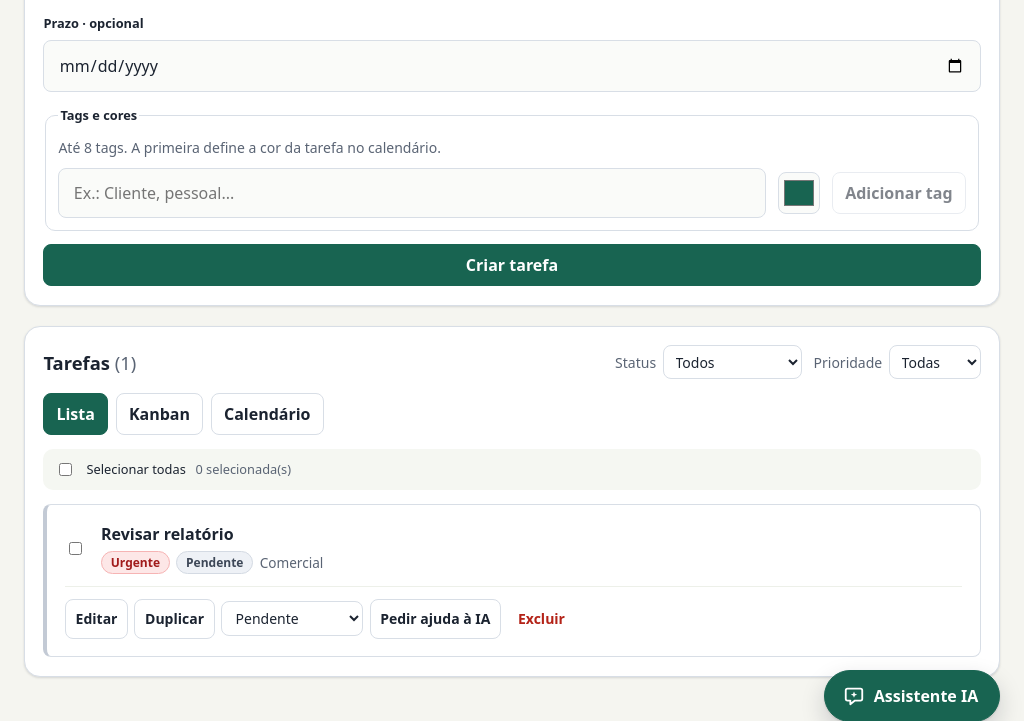
Test case: TasksPage list › notes when the API sent its maximum of 100 tasks
The width and height of the screenshot is (1024, 721).
(page scrolled)
Expected: the text "Revisar relatório" is shown, [101,523,234,545]
Expected: the text "Mostrando as 100 tarefas mais recentes." is not shown
Step 1. Select "Urgente" in the dropdown named "Filtrar por prioridade" → (935, 362), box [889,345,981,379]
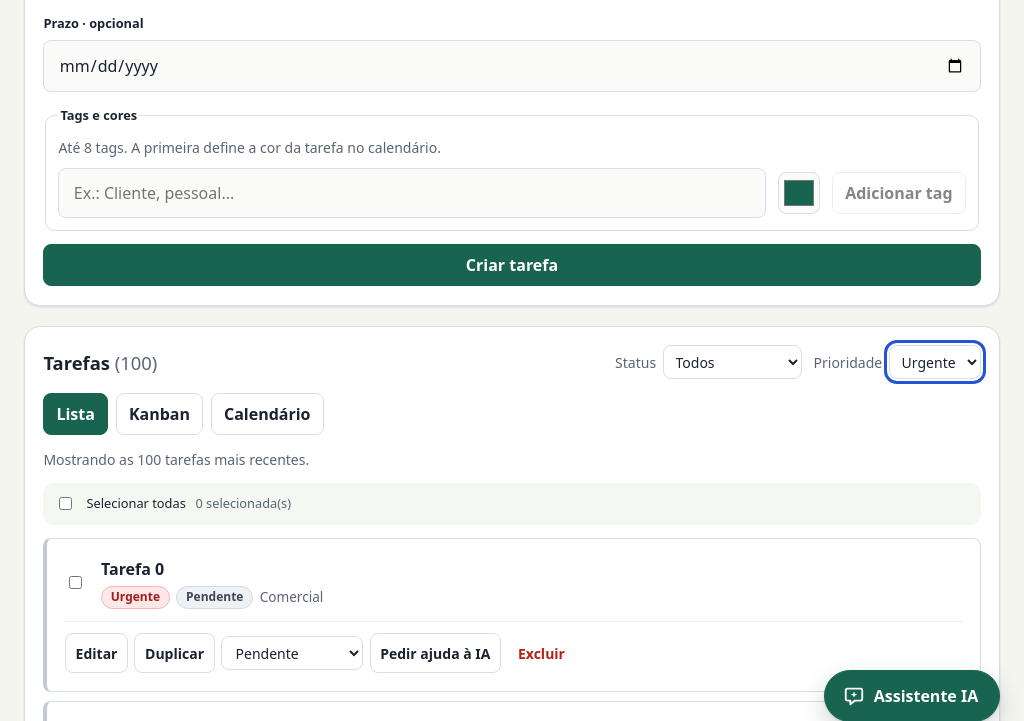
Now the text "Mostrando as 100 tarefas mais recentes." is shown, box [43,450,309,469]
Now the heading "Tarefas (100)" is shown, box [43,348,157,376]
